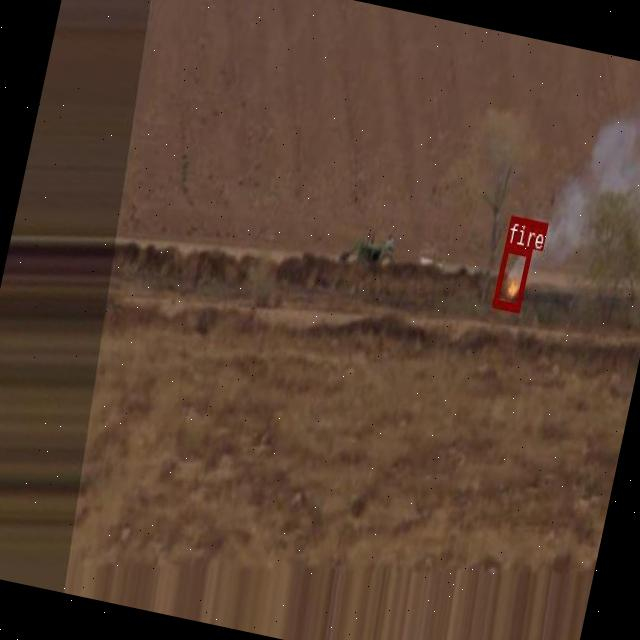fire: (492, 243, 532, 310)
